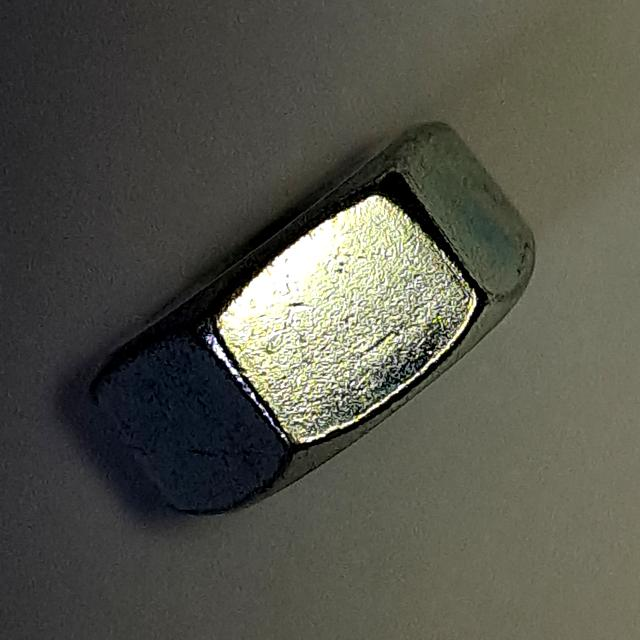Side_Excellent: (79, 111, 544, 528)
